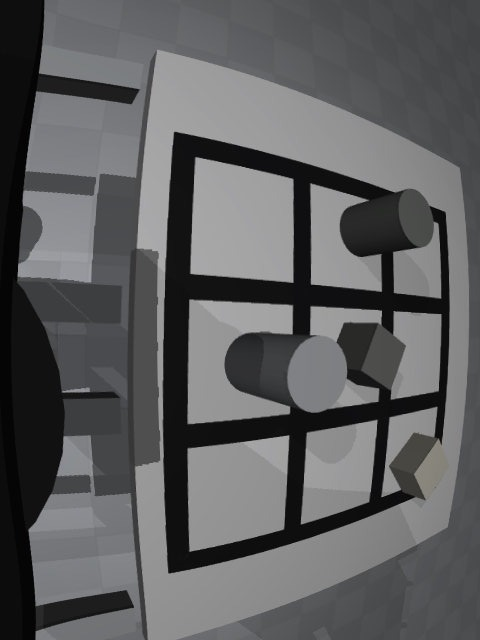can: (224, 332, 347, 413)
cube: (336, 322, 406, 390)
cylinder: (340, 188, 434, 257)
foam: (389, 432, 449, 500)
